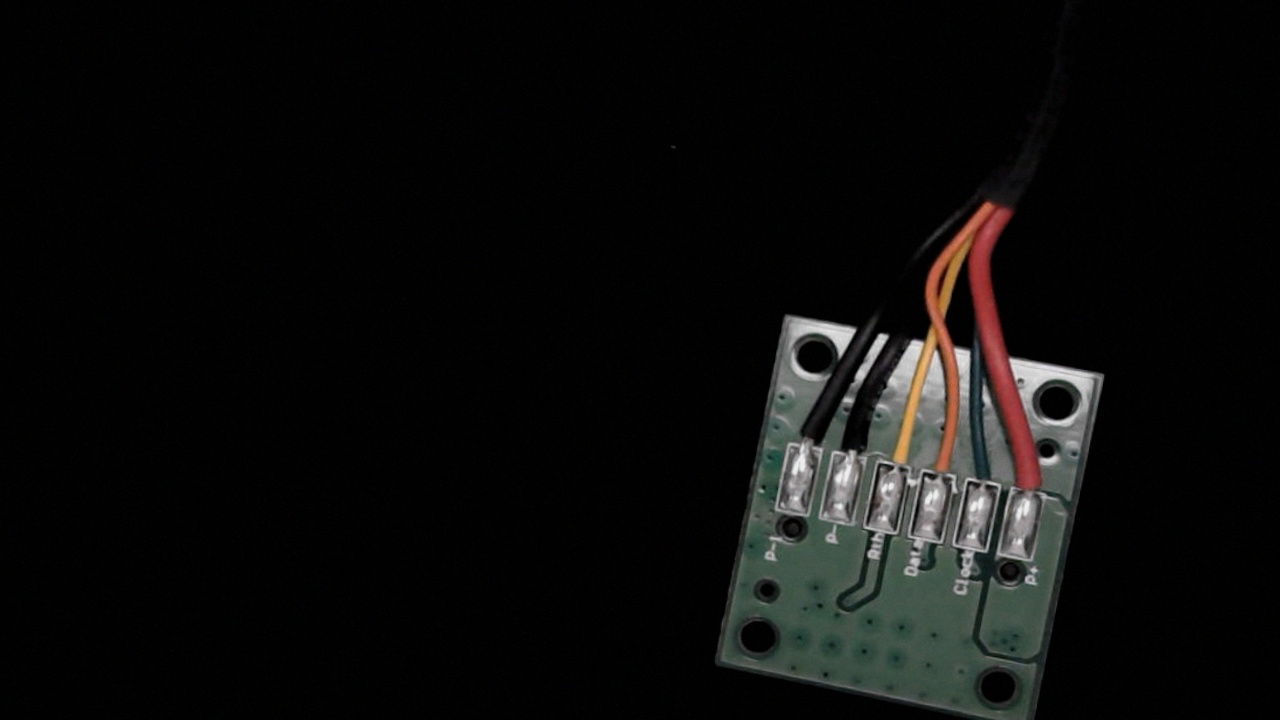Black: (829, 404, 879, 474)
Black1: (784, 407, 829, 468)
Green: (962, 439, 1009, 498)
Orange: (919, 416, 964, 493)
Red: (1007, 437, 1053, 507)
Yellow: (879, 405, 926, 488)
